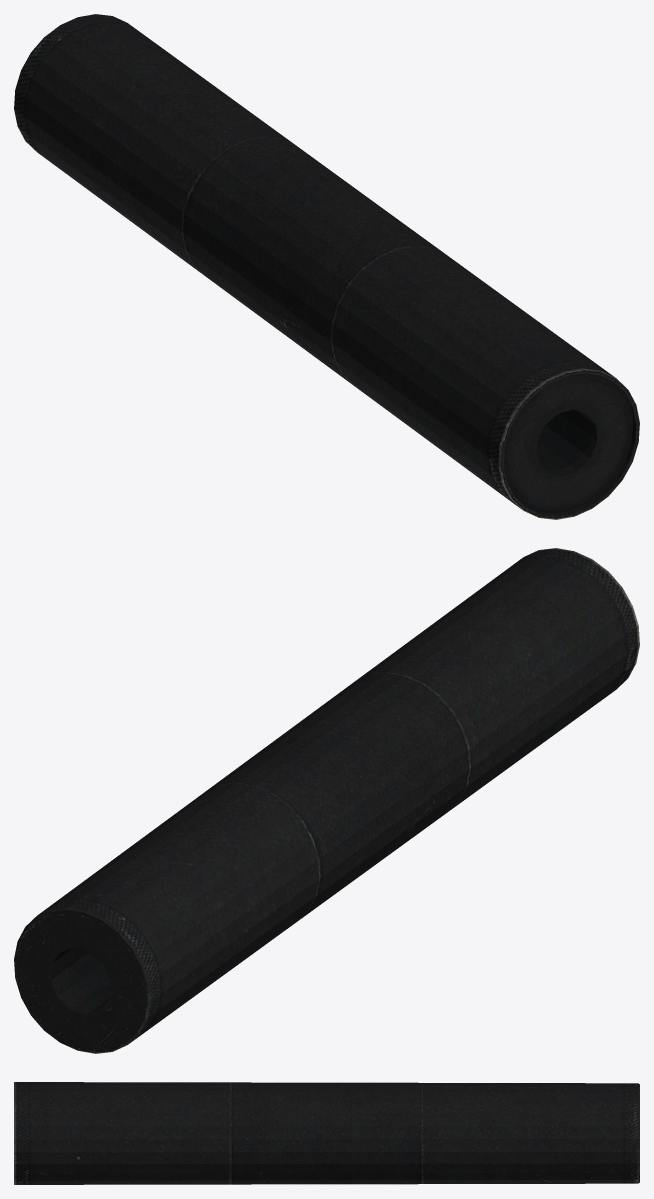
3 renders of one model, top to bottom at view 1: azimuth 30°, elevation 25°; view 2: azimuth 150°, elevation 25°; view 3: azimuth 270°, elevation 25°, orthographic. The views are drawn at different scales.
Parts seen in each view (by area): view 1: TW_571a28e524597720b4066567_PZ_Import; view 2: TW_571a28e524597720b4066567_PZ_Import; view 3: TW_571a28e524597720b4066567_PZ_Import.
Boxes of the visible parts, box(x1,y1,x2,y2) form: TW_571a28e524597720b4066567_PZ_Import: box(14, 14, 639, 519); TW_571a28e524597720b4066567_PZ_Import: box(14, 548, 639, 1053); TW_571a28e524597720b4066567_PZ_Import: box(14, 1082, 639, 1184).
Bounding box in the file's own units: 0.0167 × 0.1012 × 0.0167.
1 material, 1 textured.
